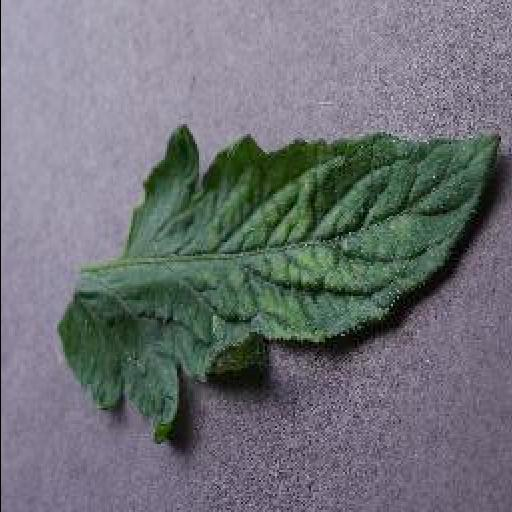disease_tomato: (54, 125, 502, 443)
